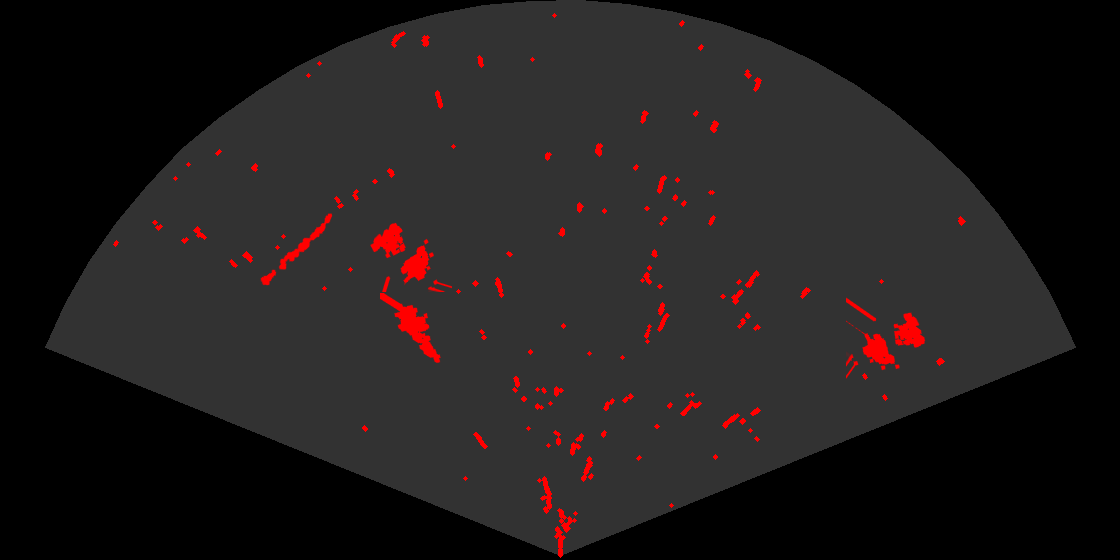cage: (846, 296, 927, 380), (369, 221, 452, 292)
chain: (259, 212, 334, 287)
frogman: (380, 293, 442, 365)
